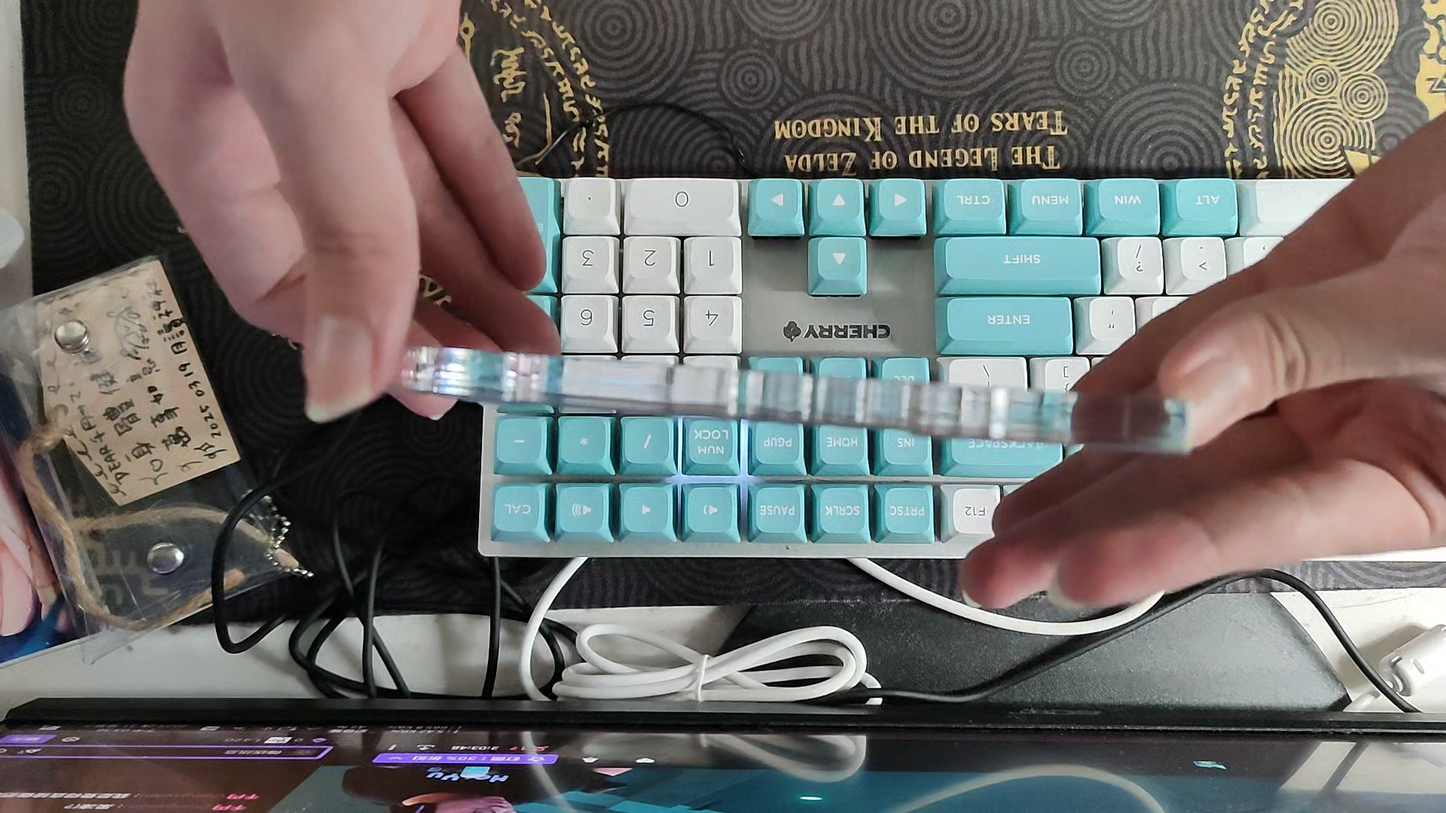Yanami-anna: (400, 342, 1192, 455)
